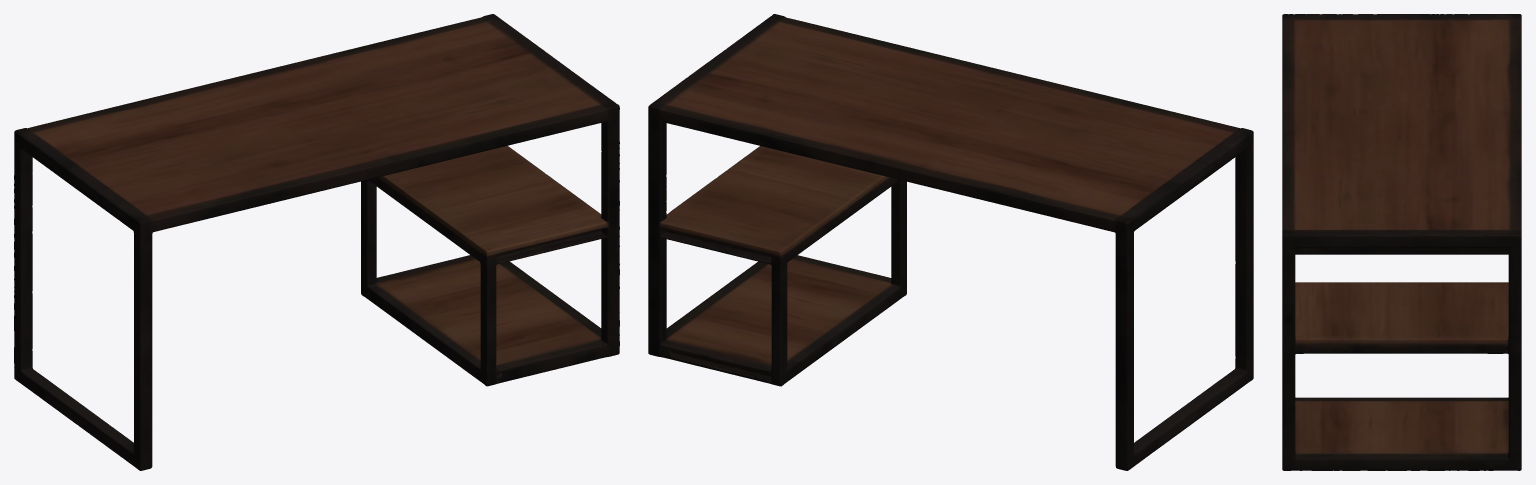
Rendered from desktop.glb.
3 views of the same model, side by side, from view 1: azimuth 30°, elevation 25°; view 2: azimuth 150°, elevation 25°; view 3: azimuth 270°, elevation 25° (orthographic). The views are drawn at different scales.
Visible parts, largest first — view 1: world; view 2: world; view 3: world.
Boxes of the visible parts, x1=… form: world: x1=14, y1=14, x2=619, y2=470; world: x1=648, y1=14, x2=1253, y2=470; world: x1=1282, y1=14, x2=1521, y2=470.
Bounding box in the file's own units: 1 × 0.4979 × 0.458.
Materials: 1 (1 with a texture image).
